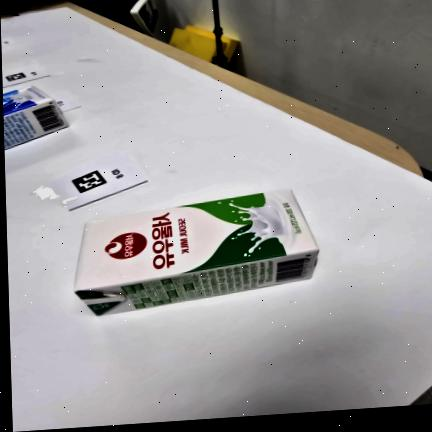milk_green: (73, 188, 319, 317)
